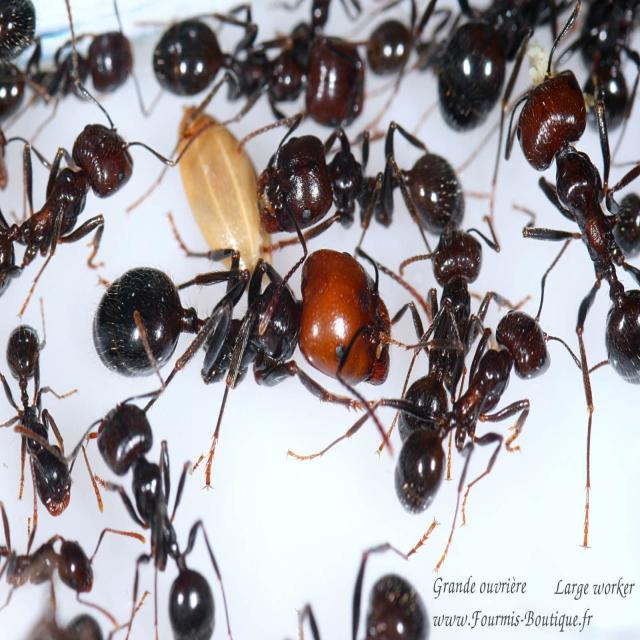ants: (111, 232, 395, 416), (501, 53, 640, 417), (390, 293, 560, 521), (86, 392, 228, 640), (0, 102, 147, 297), (255, 119, 471, 249), (385, 212, 506, 443), (157, 19, 377, 136), (0, 310, 74, 523), (0, 19, 142, 122), (0, 520, 100, 614)
